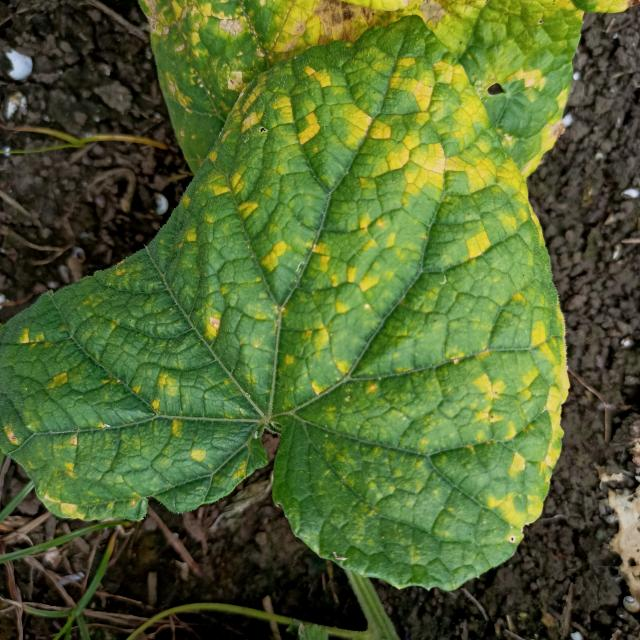disease_cucumber: (8, 29, 570, 546), (147, 0, 529, 144)
